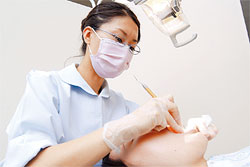mask: (90, 37, 132, 78)
